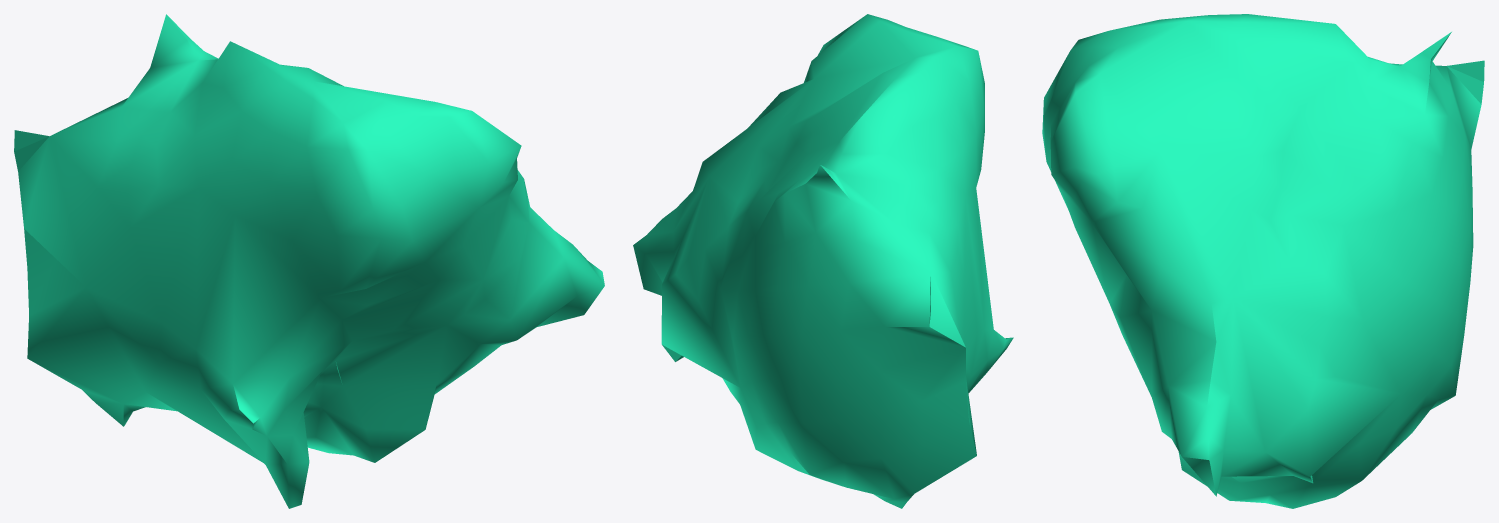
File: spl-388.glb
3 views of the same model, side by side, from view 1: azimuth 30°, elevation 25°; view 2: azimuth 150°, elevation 25°; view 3: azimuth 270°, elevation 25° (orthographic). The views are drawn at different scales.
Visible parts, largest first — view 1: spl-388; view 2: spl-388; view 3: spl-388.
Part boxes in pixels (x1,y1,x2,y2): spl-388: (14,14,604,508); spl-388: (633,14,1013,508); spl-388: (1042,14,1484,508).
Size of the model in its own units: 9.33 by 7.97 by 7.13.
